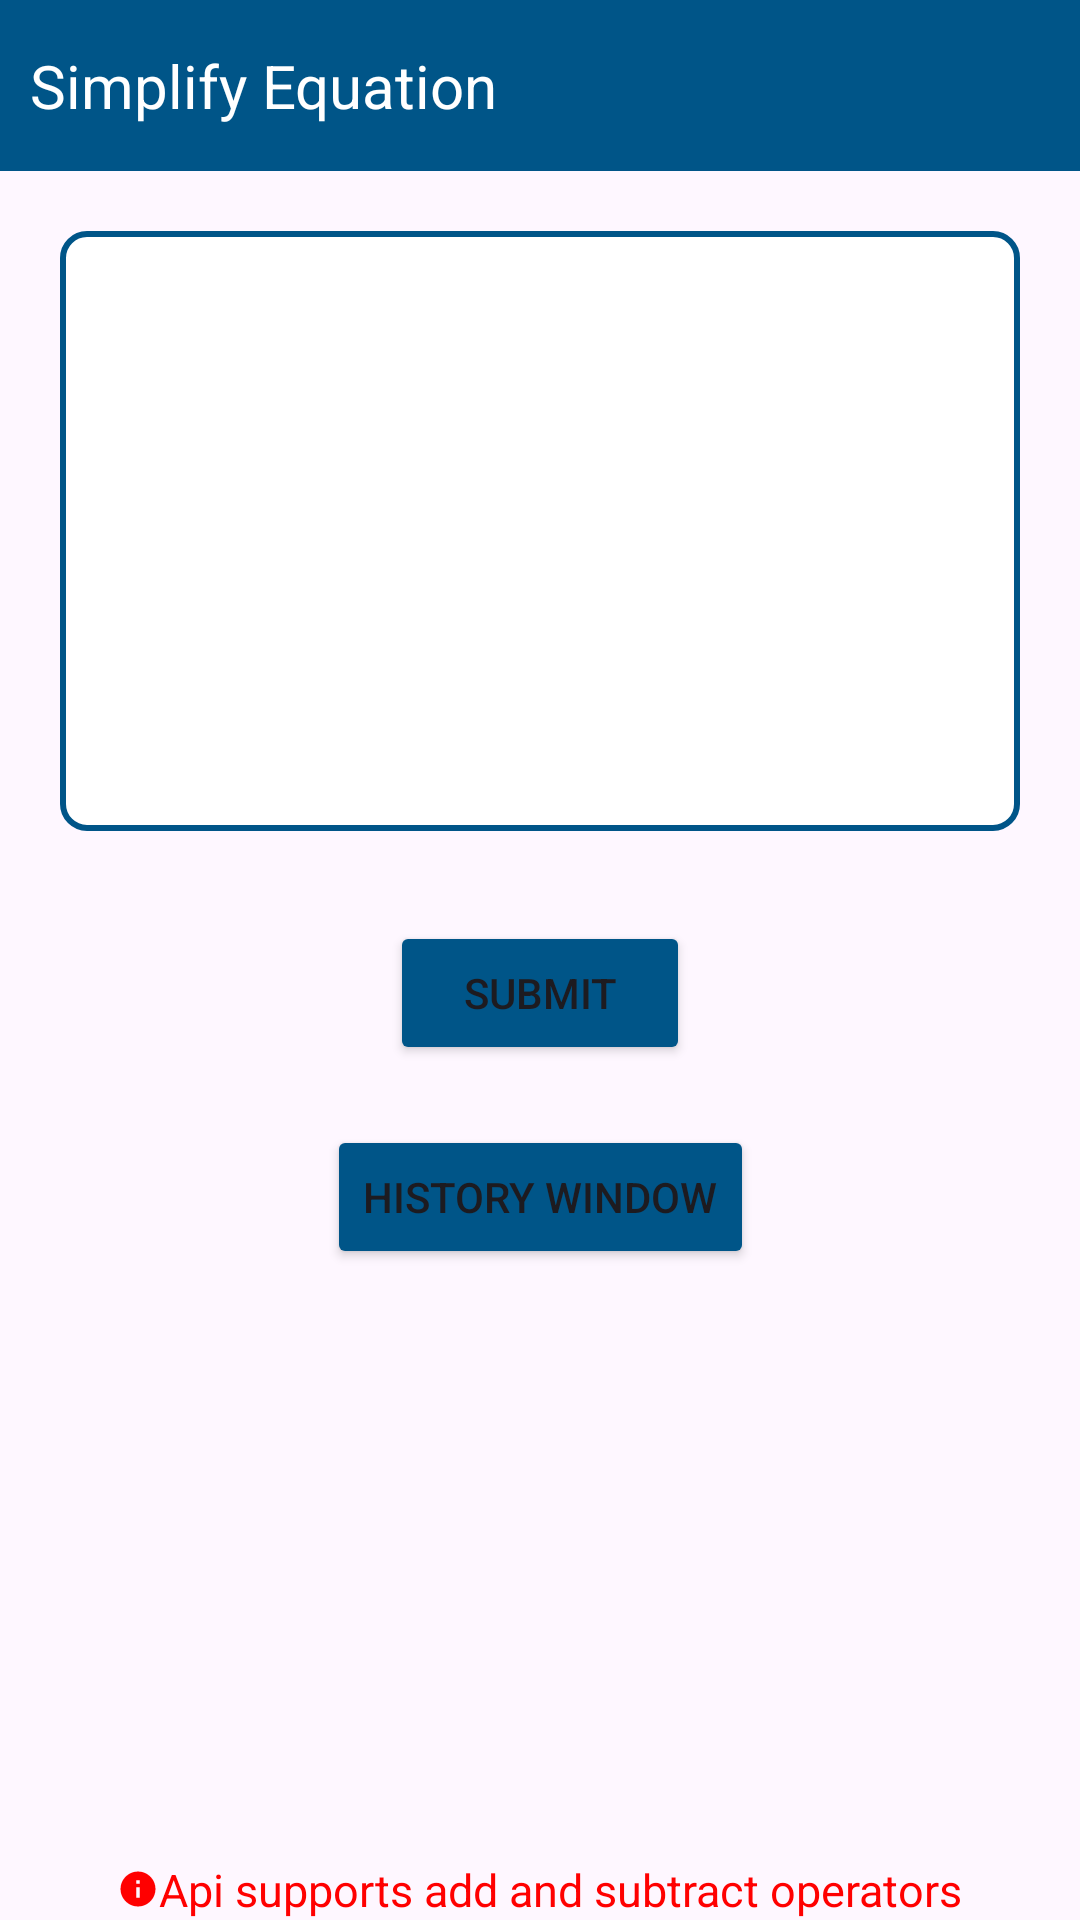

Point at icon controls on the screen. Image size 1080px x 1920px, points as (x=x, y=y).
info: (x=138, y=1889)
